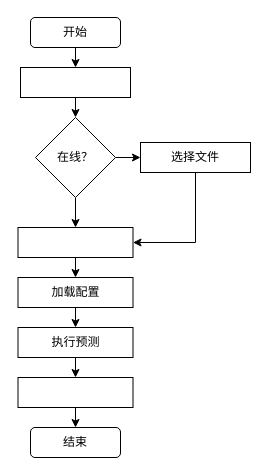
Image size: 268x475. Some labels were removed from this diagram. Each missing label, with the centre of its shape:
"加载模型" goes at pixel 75 242.
"返回结果" goes at pixel 75 392.
"选择模型" goes at pixel 75 82.
